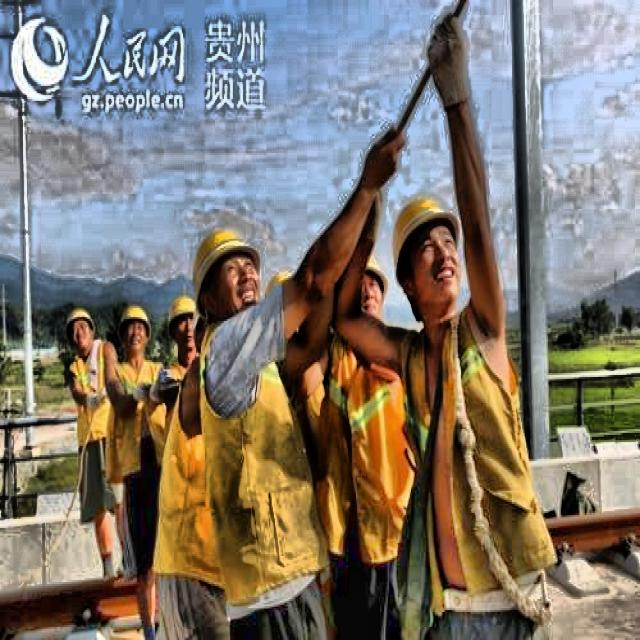helmet: (386, 183, 469, 328), (185, 211, 268, 328), (343, 242, 388, 326), (115, 299, 156, 362), (165, 291, 201, 356), (61, 306, 96, 360)
